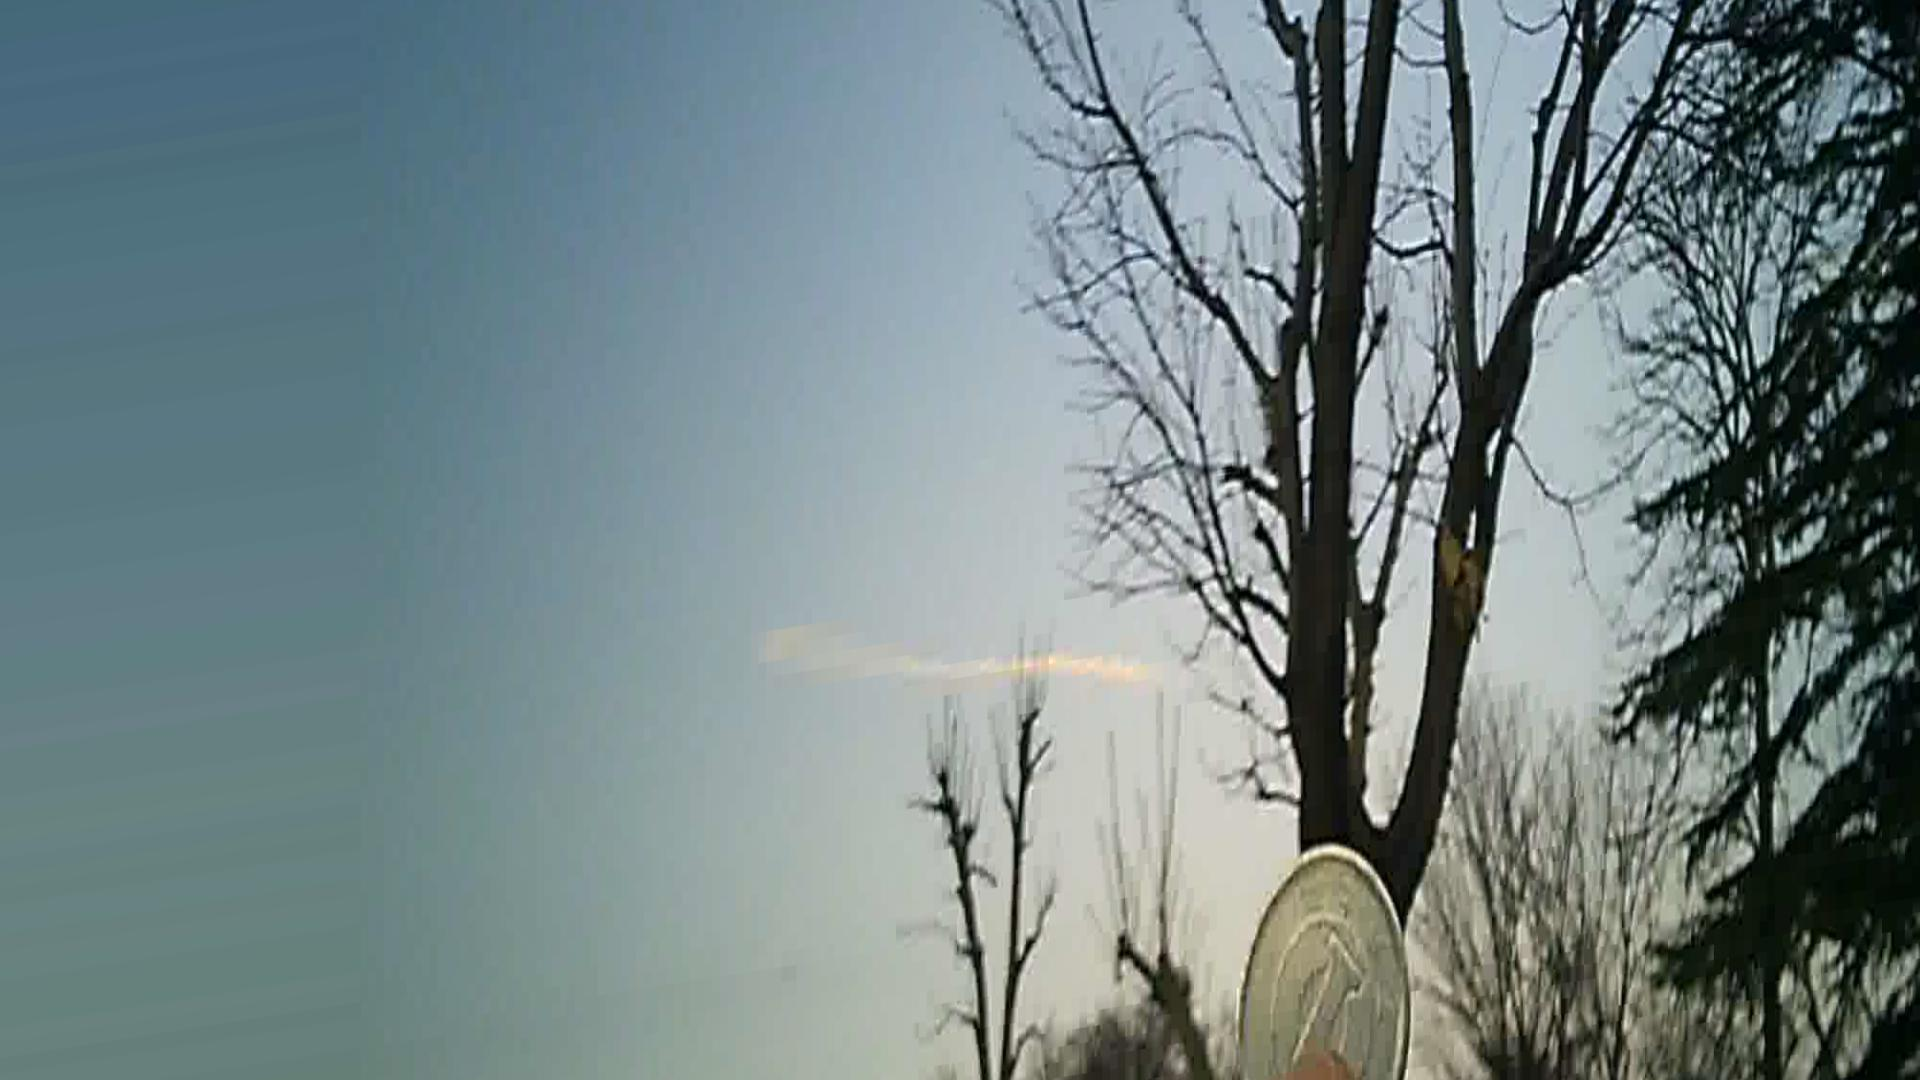1 Yen: (1225, 849, 1428, 1079)
